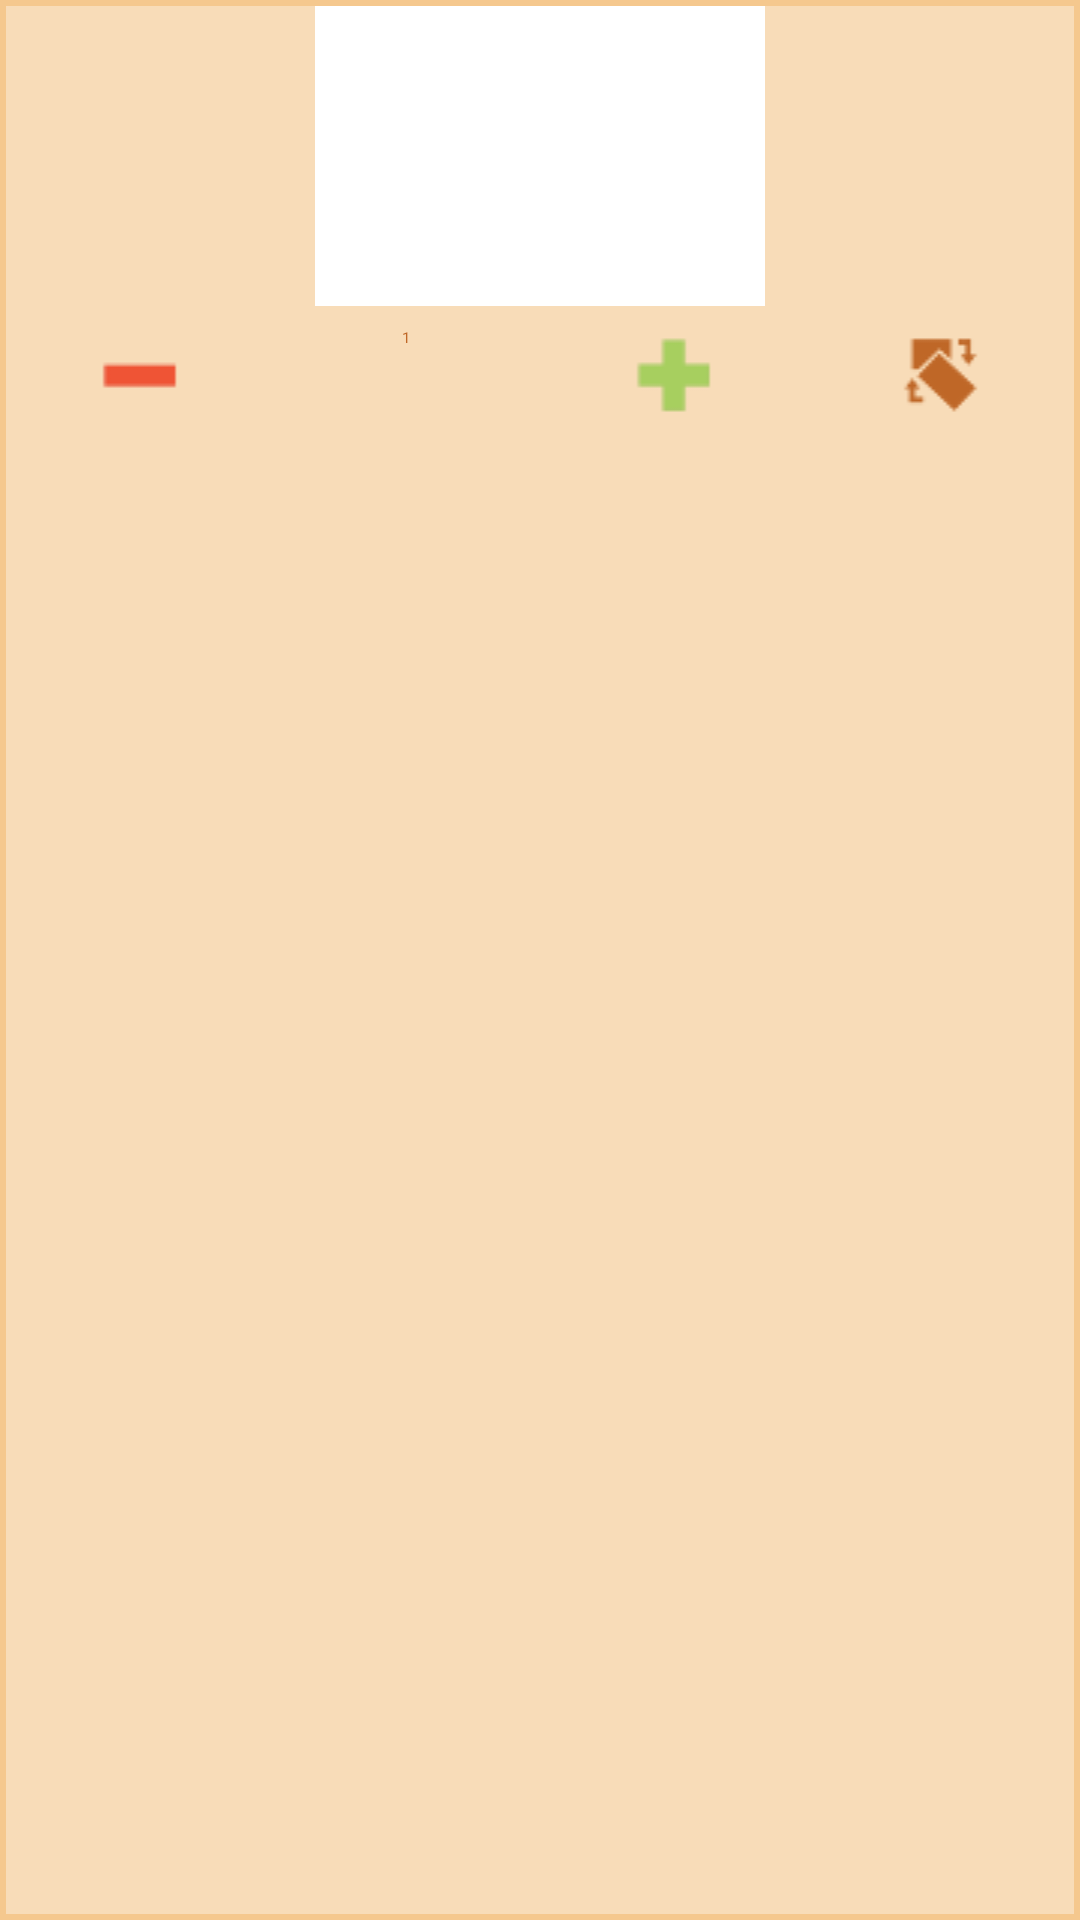

Point at icon controls on the screen. Image size 1080 x 1920, points as (x=x, y=y).
minus: (x=139, y=375)
plus: (x=673, y=375)
rotate: (x=940, y=375)
